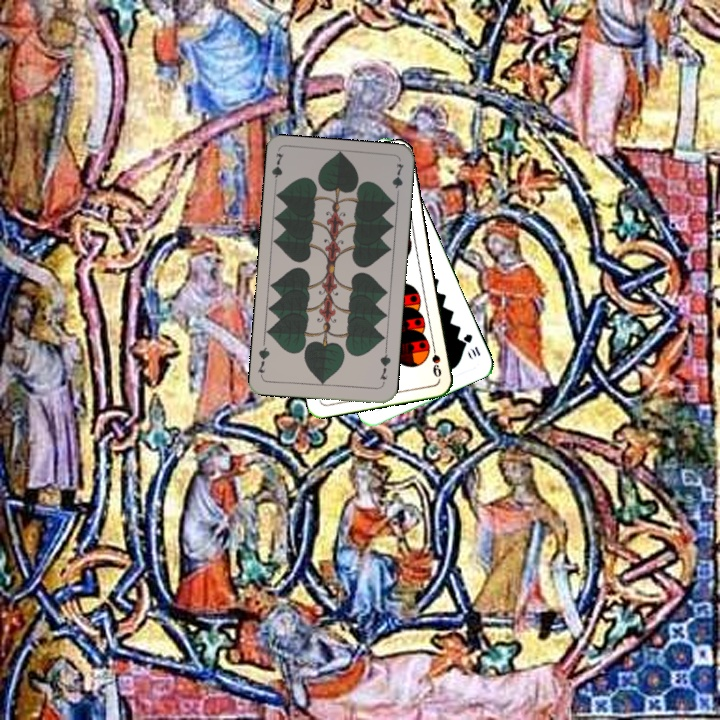G10: (459, 330, 483, 360)
G7: (268, 150, 286, 190), (375, 347, 393, 382)
S9: (428, 340, 444, 379)
